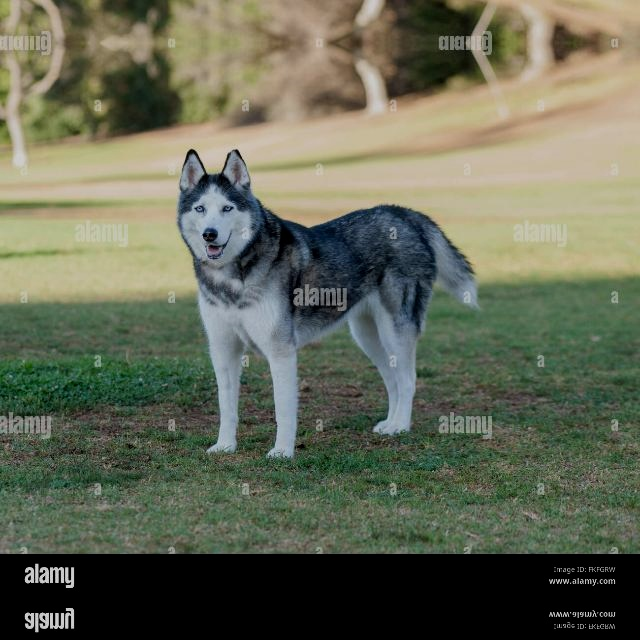dog: (165, 132, 490, 468)
